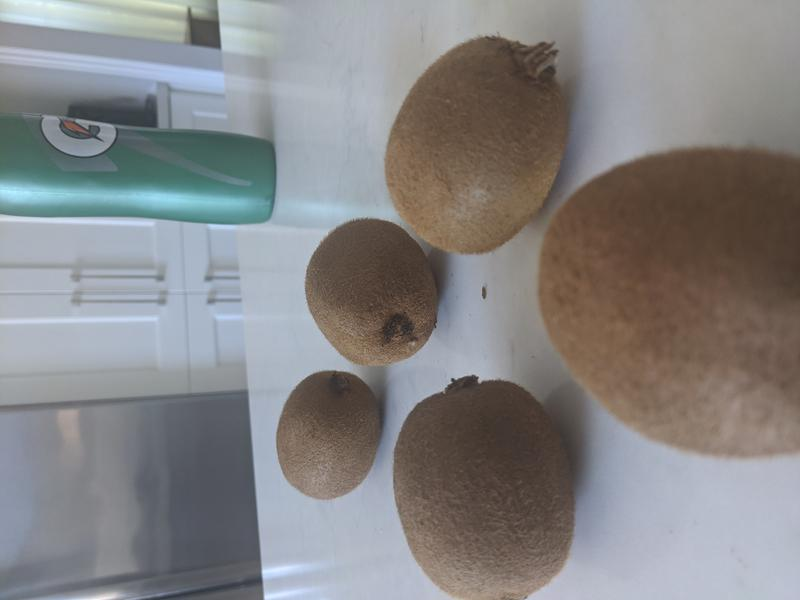kiwi: (538, 146, 800, 459), (392, 375, 577, 600), (385, 36, 569, 255), (304, 217, 440, 368), (275, 370, 385, 501)
